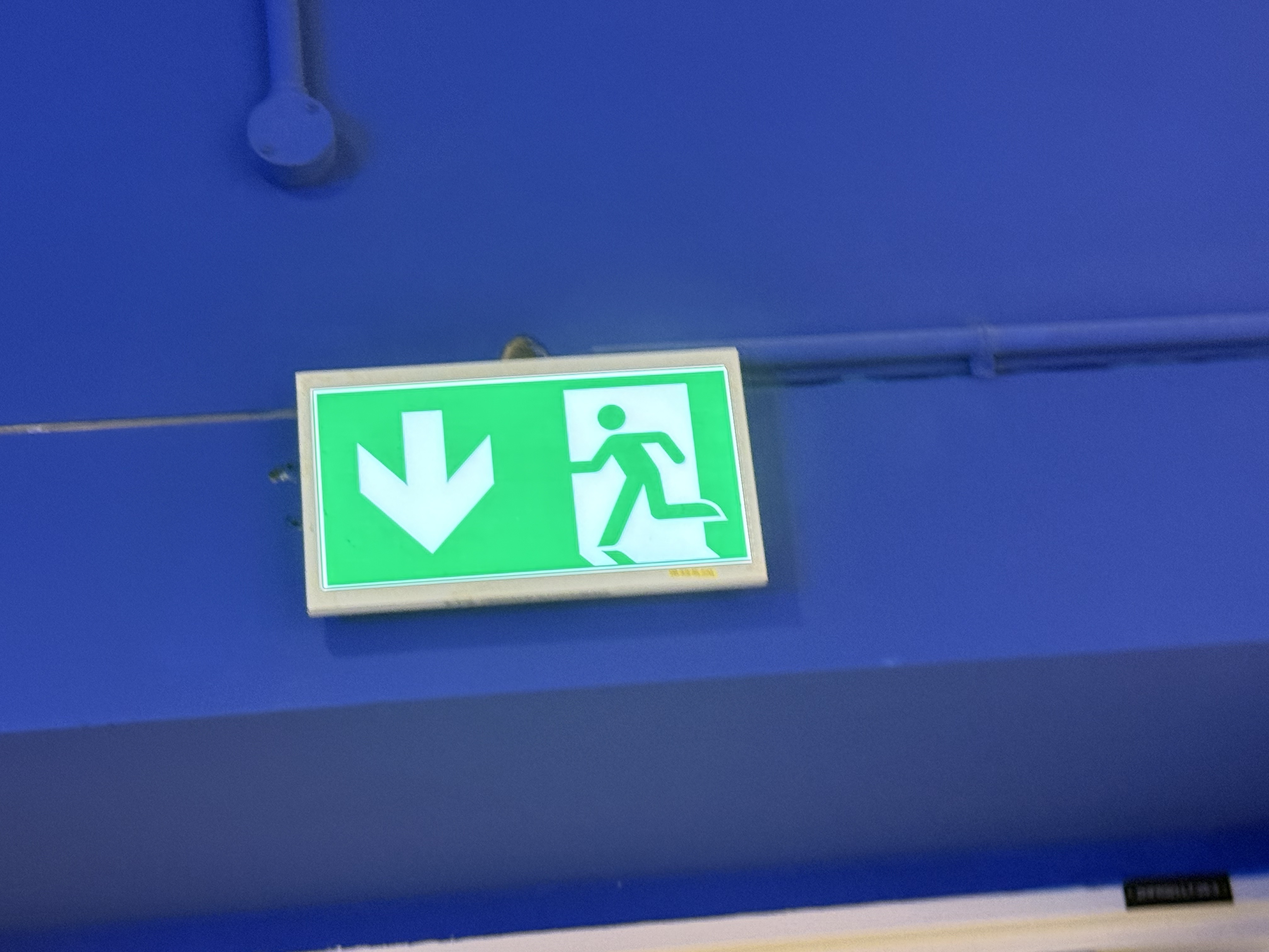emergency_exit: (292, 345, 770, 618)
